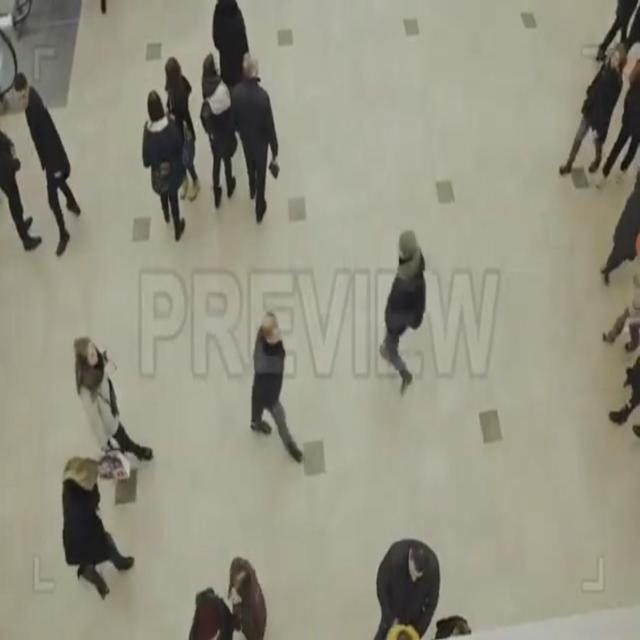humans: (12, 69, 82, 262), (72, 330, 158, 467), (62, 457, 137, 599), (250, 300, 308, 468), (233, 40, 283, 229), (562, 44, 630, 177), (379, 224, 430, 395), (374, 534, 442, 640), (142, 84, 186, 244), (162, 56, 204, 207), (200, 46, 237, 208), (1, 126, 44, 254), (599, 74, 640, 189), (226, 552, 273, 640), (607, 168, 640, 287), (209, 0, 248, 83), (192, 586, 234, 640)
